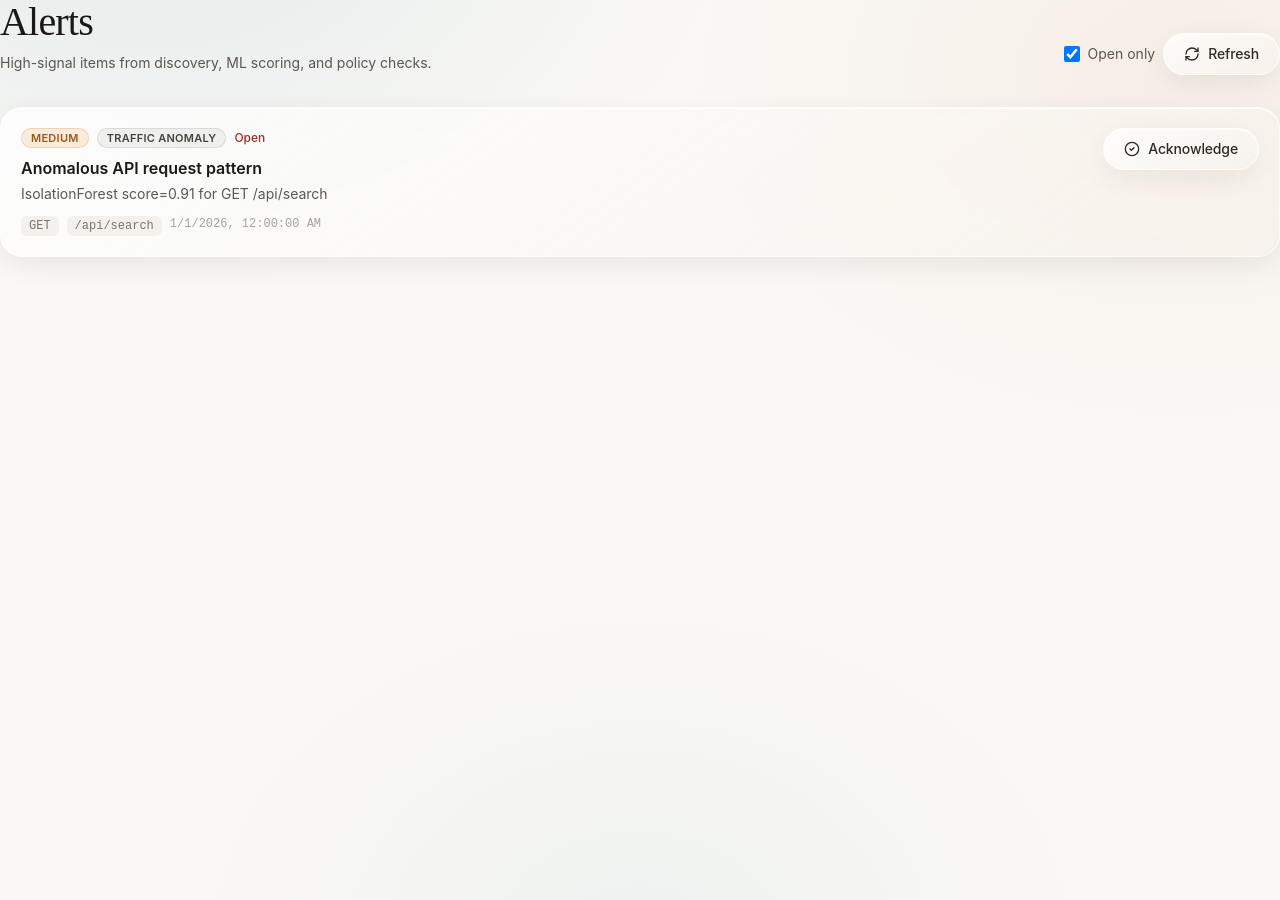
Test: Alerts page › opens the detail drawer with explanation when a card is clicked
The width and height of the screenshot is (1280, 900).
Step 1. Click the heading "Anomalous API request pattern" → (142, 168), box [21, 158, 262, 178]
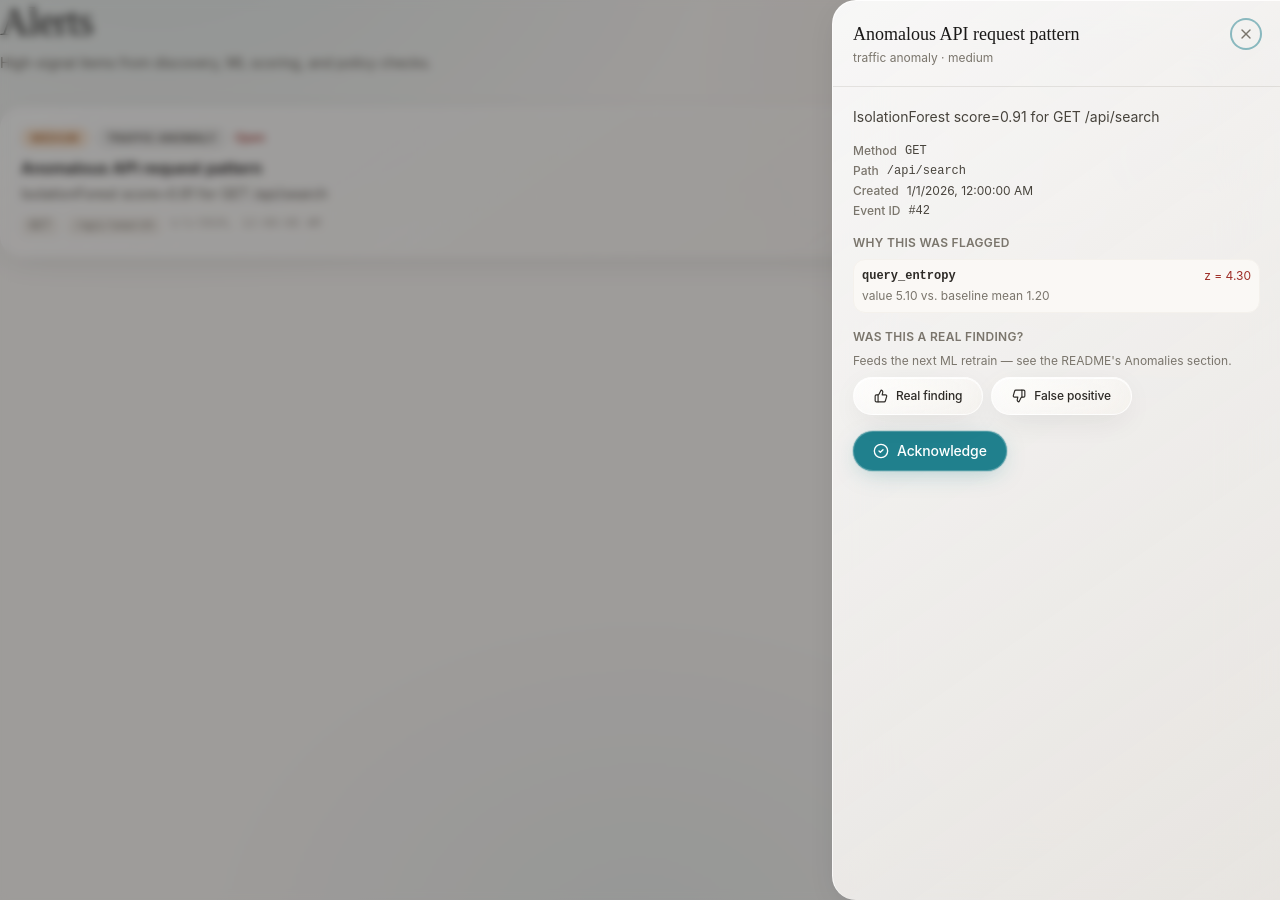
Check: the heading "Why this was flagged" is shown, box [853, 235, 1010, 250]
Check: the text "query_entropy" is shown, box [862, 268, 956, 284]
Check: the text "z = 4.30" is shown, box [1204, 268, 1251, 284]
